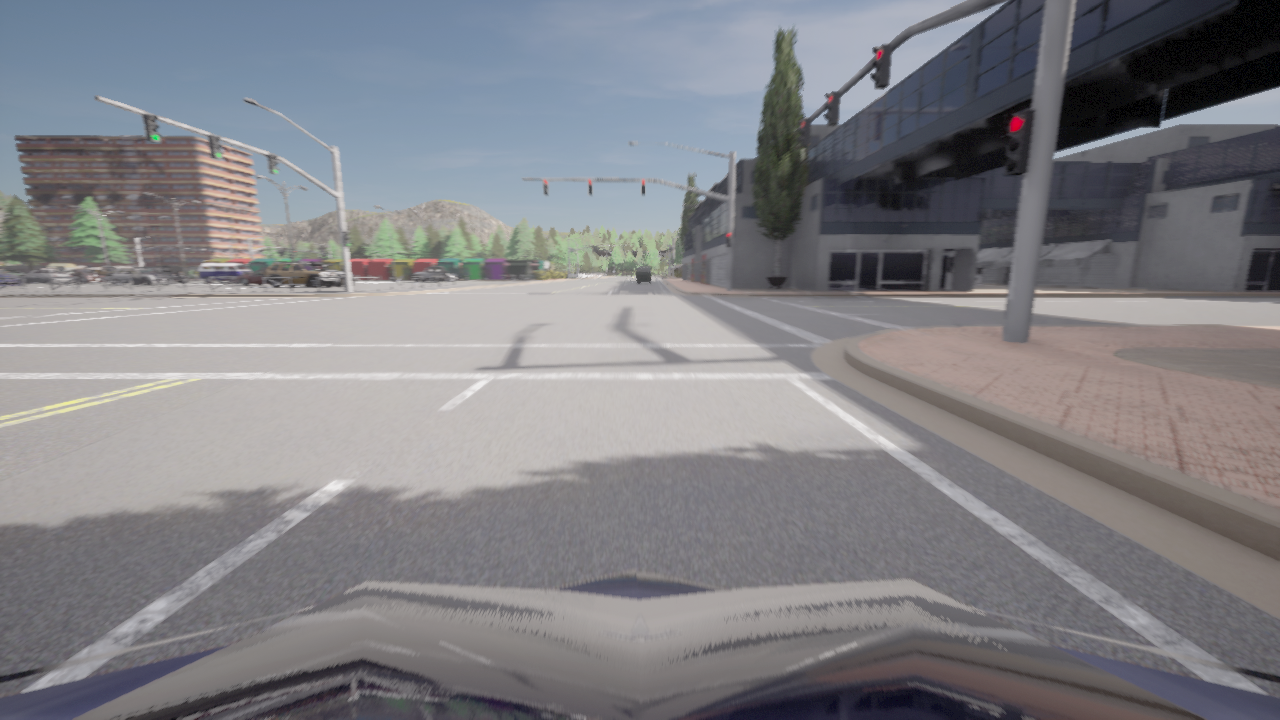cyclist: (0, 569, 1279, 719), (263, 262, 338, 287), (303, 263, 355, 286), (199, 263, 251, 283), (110, 269, 171, 285), (233, 269, 284, 285), (18, 269, 74, 283), (82, 265, 116, 282), (67, 269, 105, 283), (152, 265, 183, 282), (413, 266, 447, 281), (426, 274, 457, 281), (637, 267, 651, 282), (0, 270, 24, 275)
